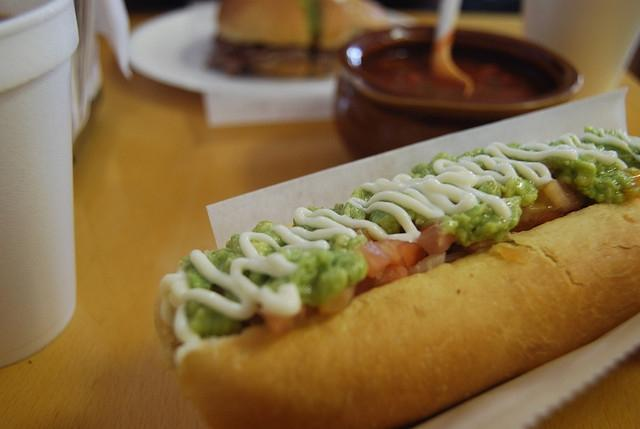tomato: (510, 178, 586, 232), (354, 241, 393, 280), (262, 305, 308, 331), (417, 225, 455, 255), (319, 284, 356, 314), (372, 264, 410, 288), (398, 241, 427, 270), (373, 240, 402, 266)
